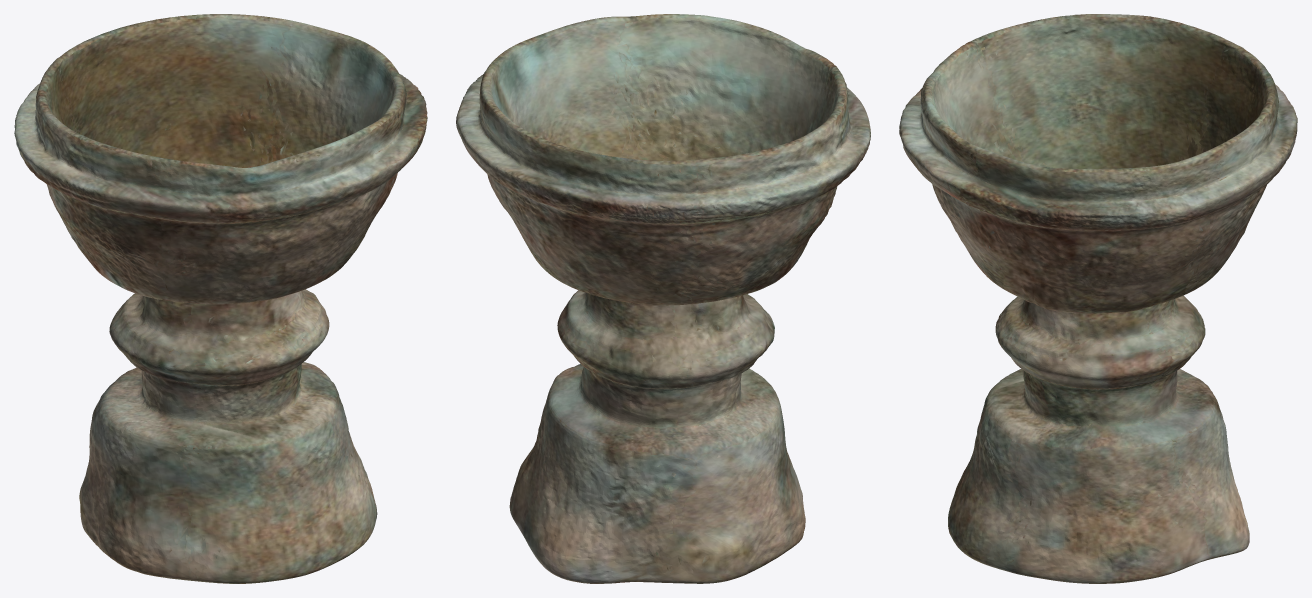
The model's file is REFERENCE_IMPORTED_ASSET.glb.
3 views of the same model, side by side, from view 1: azimuth 30°, elevation 25°; view 2: azimuth 150°, elevation 25°; view 3: azimuth 270°, elevation 25° (orthographic).
Parts seen in each view (by area): view 1: metal_cups_1.obj; view 2: metal_cups_1.obj; view 3: metal_cups_1.obj.
Part boxes in pixels (<box>): metal_cups_1.obj: <box>14,14,427,583</box>; metal_cups_1.obj: <box>456,14,870,583</box>; metal_cups_1.obj: <box>899,14,1297,583</box>.
Bounding box in the file's own units: 5.8 × 6.7 × 5.46.
1 material, 1 textured.
